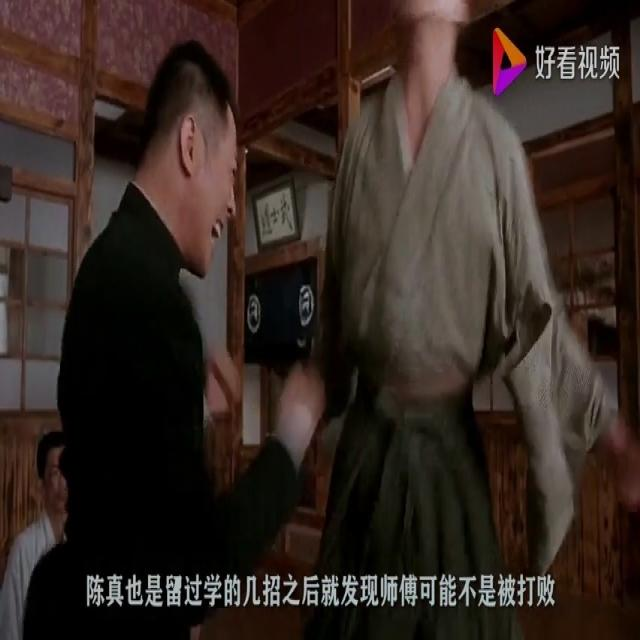fight: (32, 4, 624, 639)
